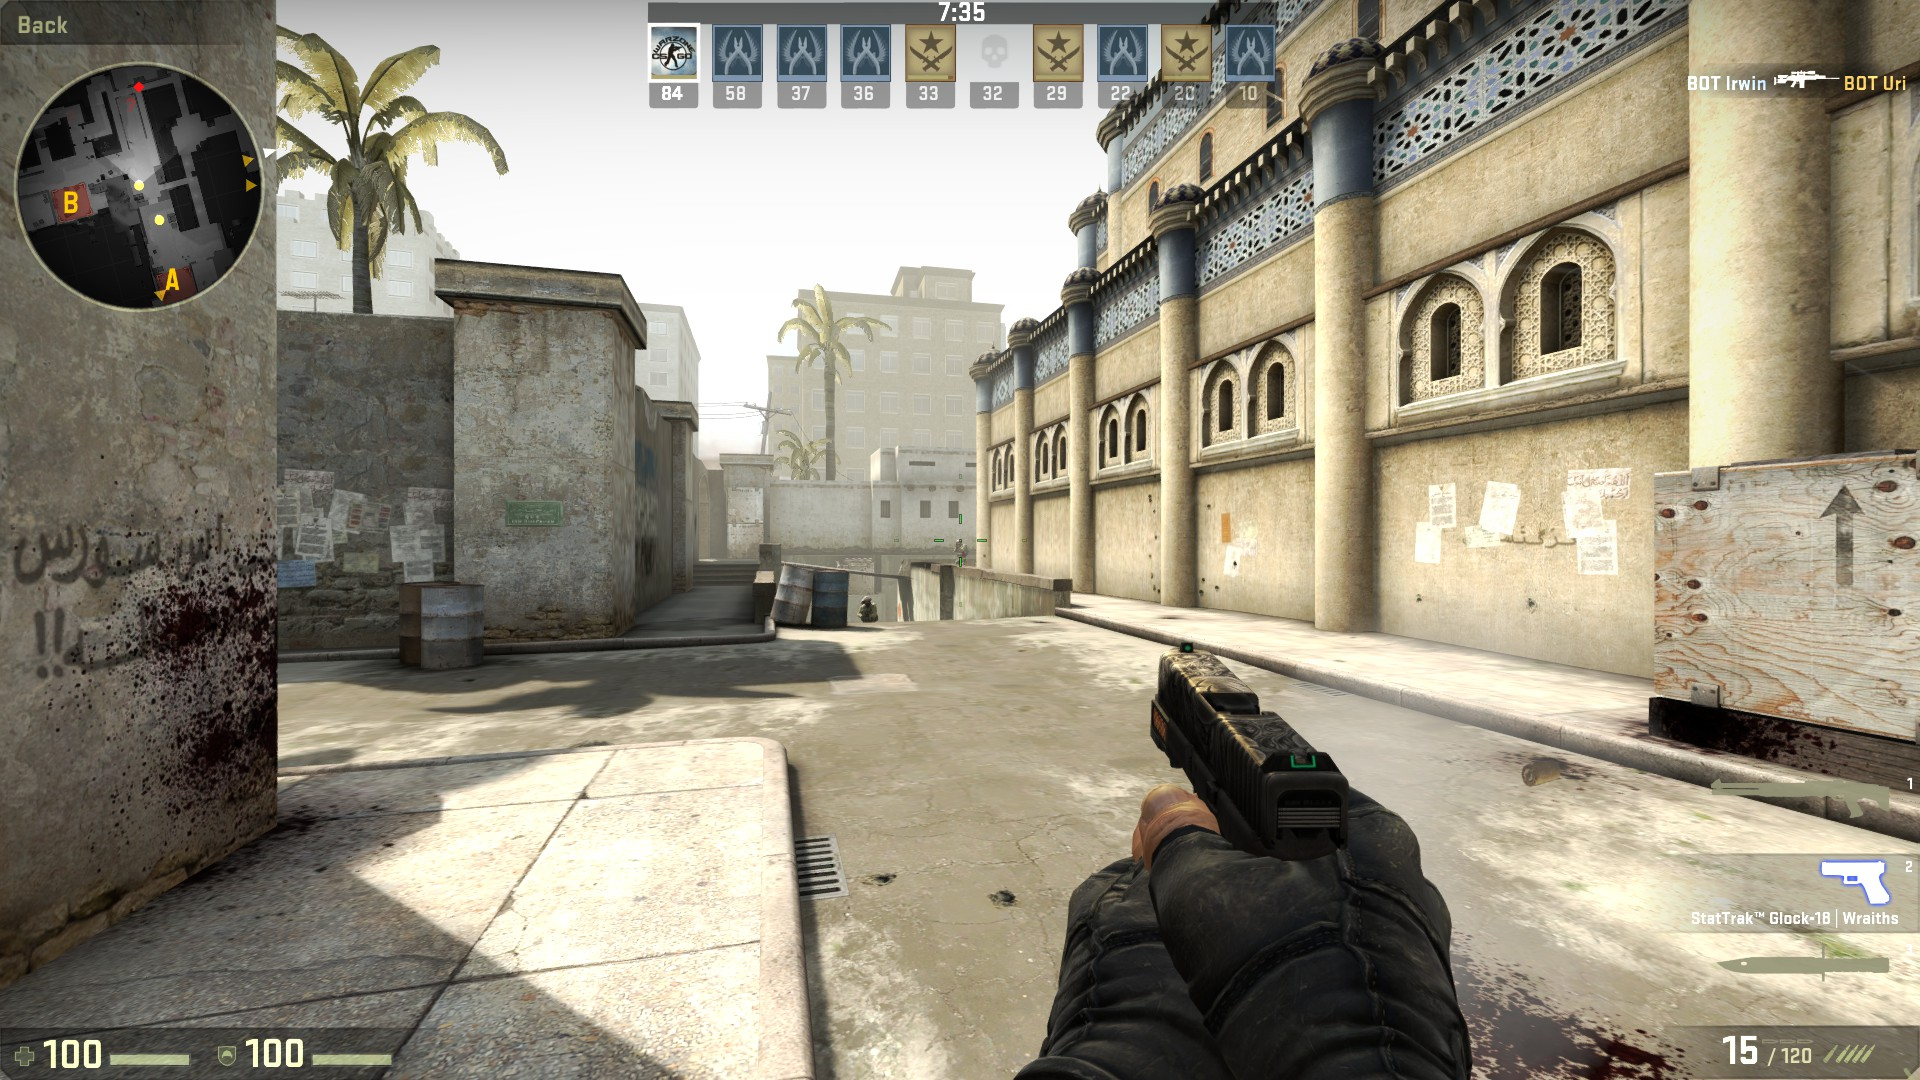c: (857, 595, 880, 622), (953, 537, 968, 571)
ch: (862, 596, 872, 609), (953, 539, 963, 549)
